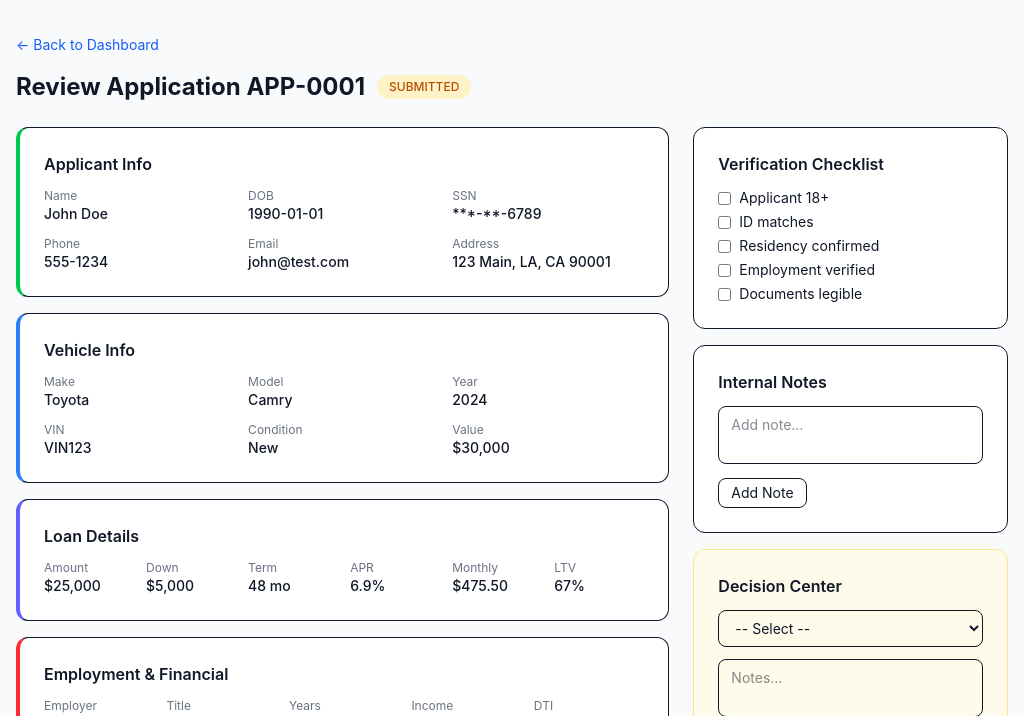
Test: LoanOfficerReviewPage › handles action failure
Select "Start Verification" in the dropdown named "Action": (851, 628) 718,610 -> 983,647
(page scrolled)
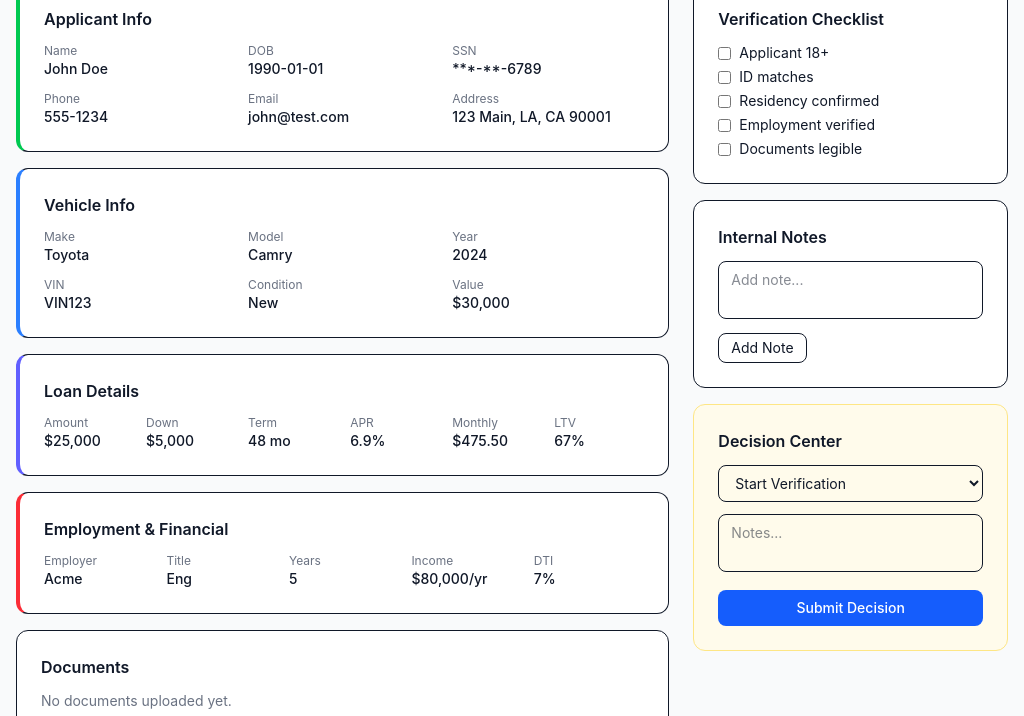
Click the button with test id "decision-btn": (851, 608) 718,590 -> 983,626
(page scrolled)
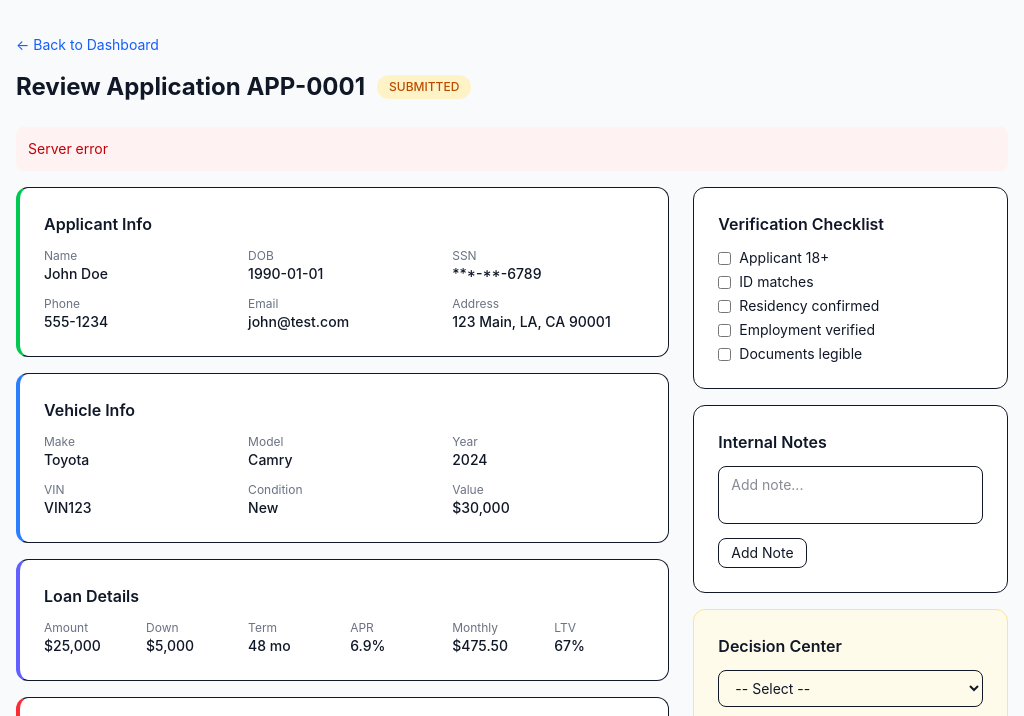
Result: the message reads "Server error" at 28,140 -> 108,157
